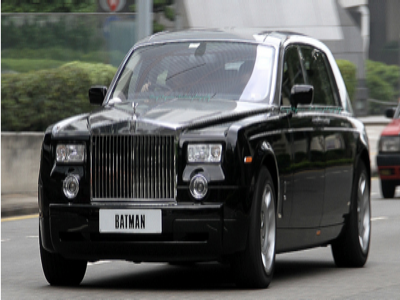licence: (99, 209, 162, 233)
